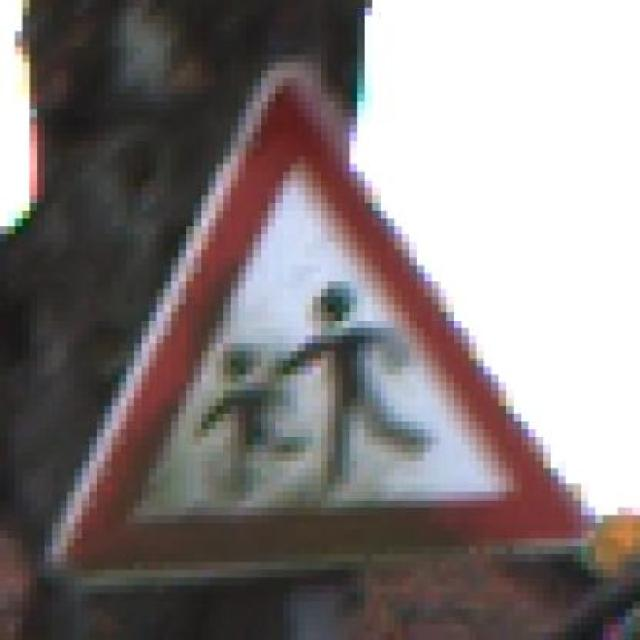Beware of children: (52, 47, 603, 585)
